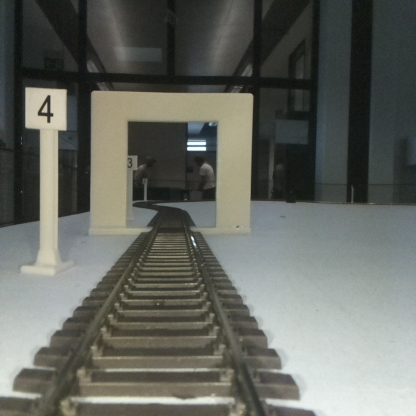white-info-3: (127, 155, 136, 218)
white-info-4: (24, 89, 66, 272)
